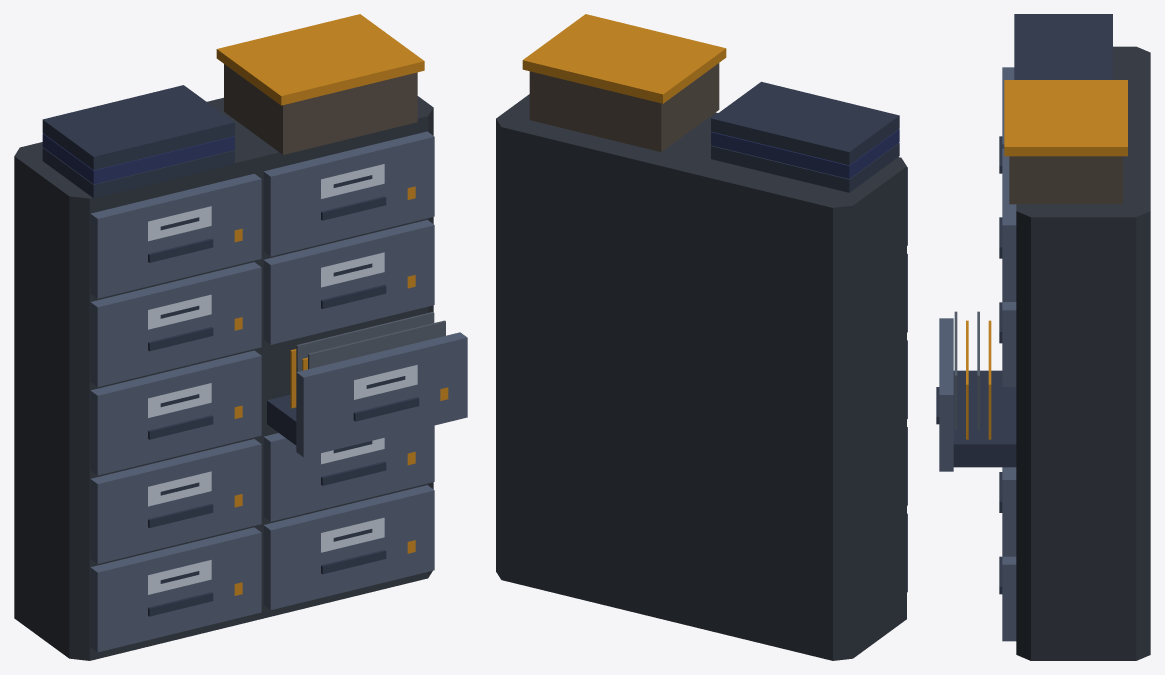
Rendered from lab_classified_cabinet.glb.
3 views of the same model, side by side, from view 1: azimuth 30°, elevation 25°; view 2: azimuth 150°, elevation 25°; view 3: azimuth 270°, elevation 25° (orthographic). The views are drawn at different scales.
Visible parts, largest first — view 1: drawer, safe, binder, file_folder, label_holder, archive_carton, file_folder.001, binder.001; view 2: safe, binder, file_folder, archive_carton, binder.001; view 3: safe, binder, file_folder, drawer, archive_carton, file_folder.001.
Boxes of the visible parts, x1,y1,x2,y2 form: drawer: (90, 131, 467, 652); safe: (14, 96, 433, 660); binder: (42, 85, 419, 616); file_folder: (216, 14, 448, 595); label_holder: (148, 164, 417, 594); archive_carton: (224, 64, 417, 154); file_folder.001: (296, 312, 445, 371); binder.001: (42, 133, 234, 184); safe: (496, 94, 906, 660); binder: (711, 81, 899, 192); file_folder: (522, 14, 726, 103); archive_carton: (529, 63, 719, 151); binder.001: (711, 129, 899, 178); safe: (1016, 46, 1150, 660); binder: (936, 14, 1112, 594); file_folder: (966, 80, 1127, 439); drawer: (939, 67, 1016, 641); archive_carton: (1009, 156, 1122, 204); file_folder.001: (954, 311, 979, 430).
Bounding box in the file's own units: 1.6 × 2.2 × 0.85.
